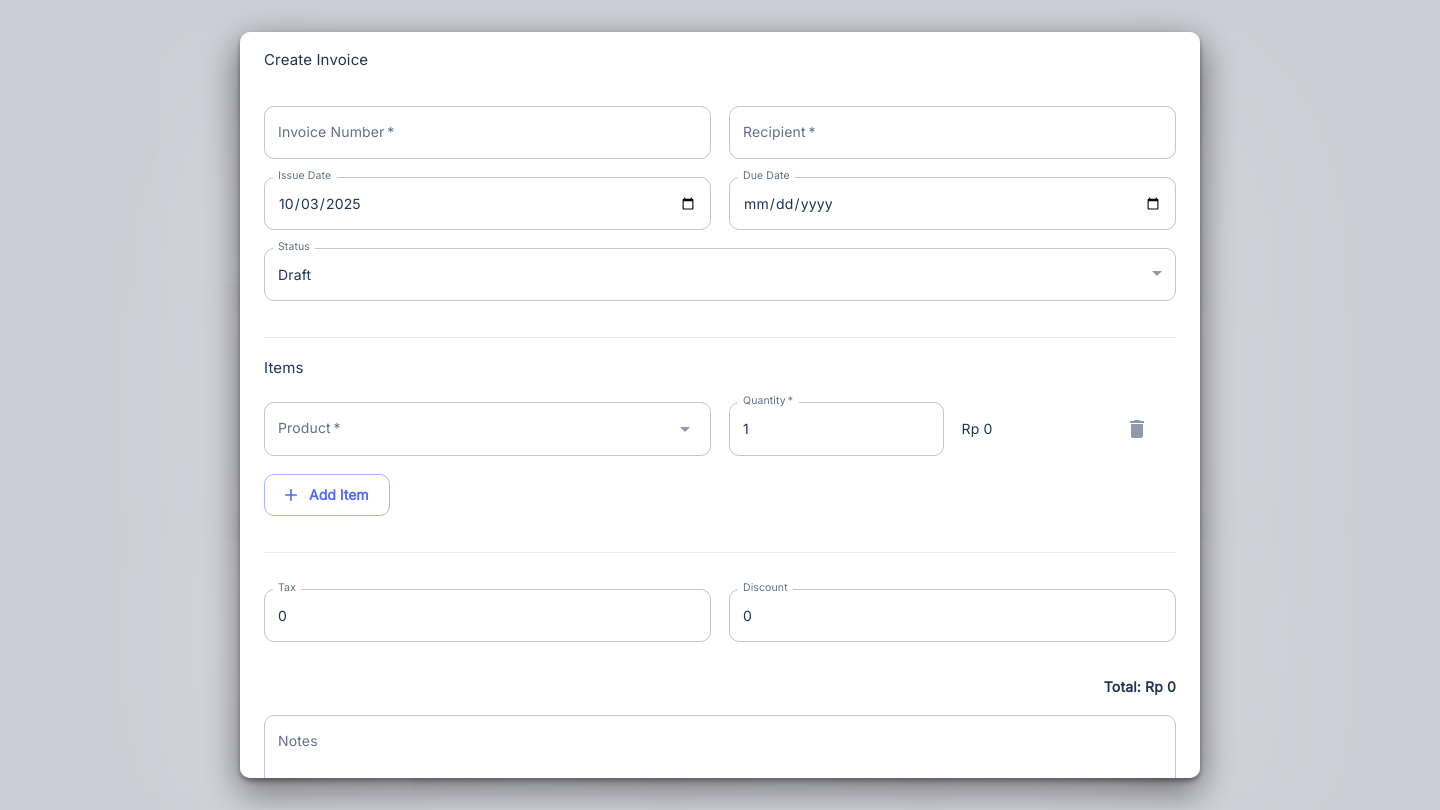
Test: InvoiceForm › should add new item
What coordinates should you click on to do the following:
click the button "Add Item"
I would click on:
 (327, 495)
Its box is [264, 474, 390, 516].
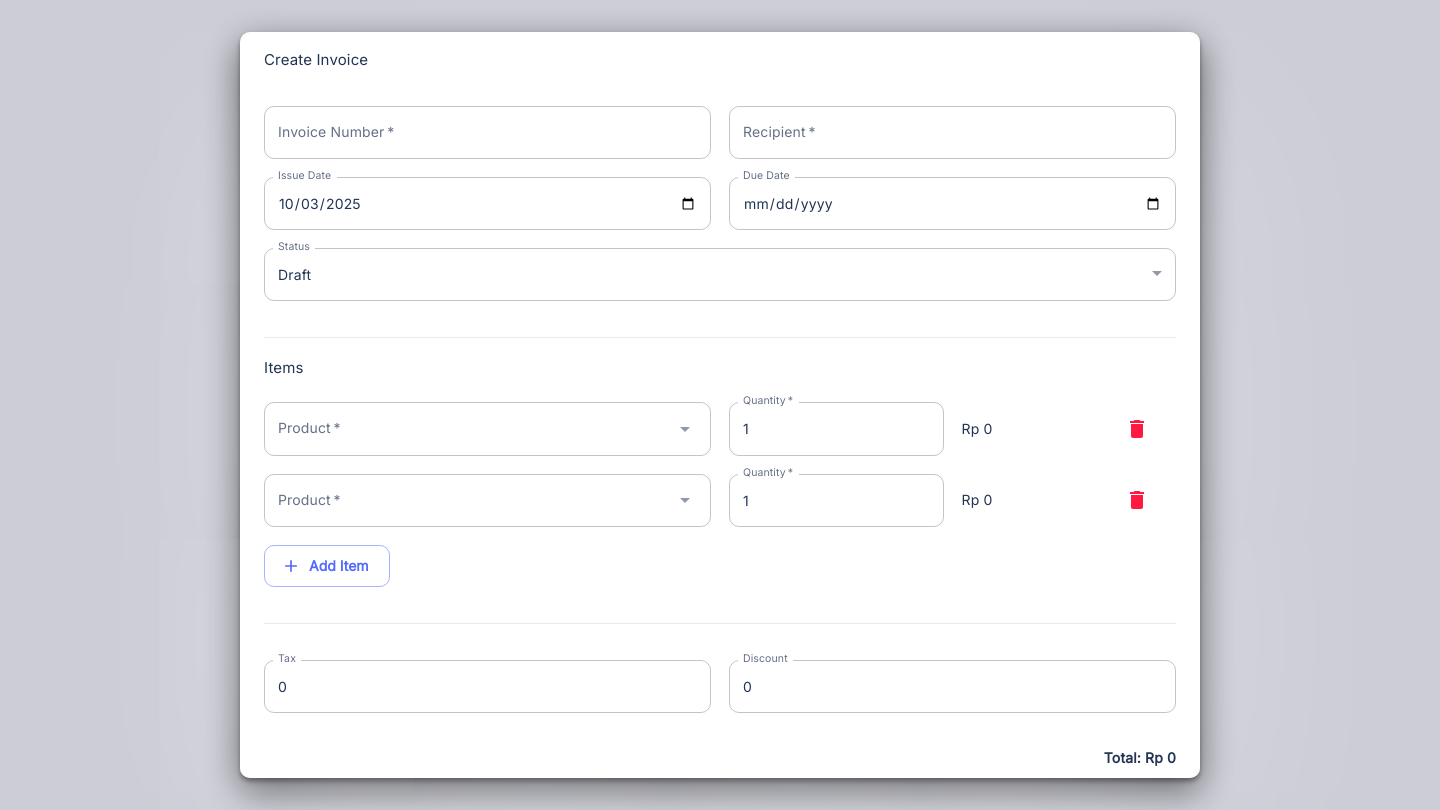
Now the number of number fields labelled "Quantity *" is 2, box [729, 402, 944, 456]; [729, 474, 944, 527]
